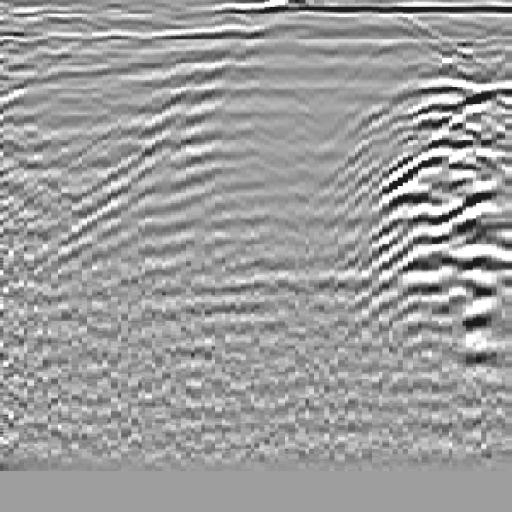metalic: (331, 38, 511, 408)
